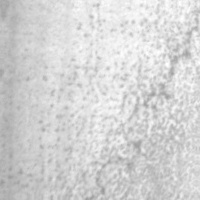pitted_surface: (41, 4, 200, 199)
